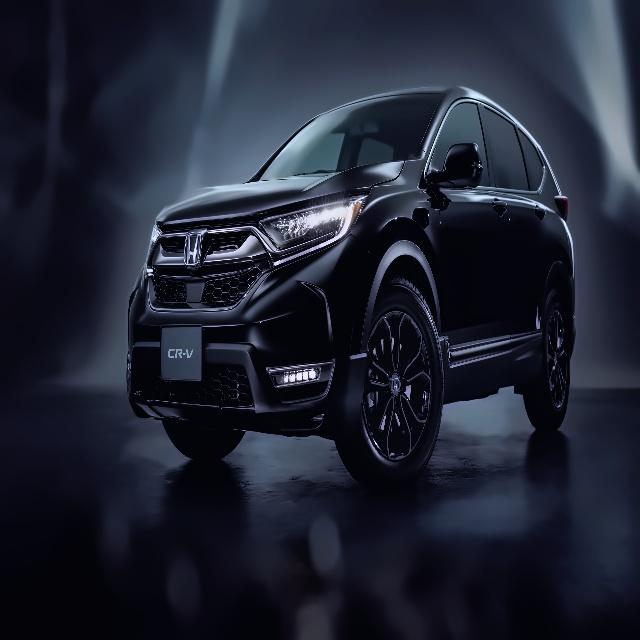Car hood: (152, 158, 409, 228)
Fender - -F-L-: (350, 157, 447, 372)
Fender - -R-L-: (547, 214, 575, 333)
Front bumper: (120, 236, 383, 452)
Headlight - -L-: (252, 189, 372, 271)
Headlight - -R-: (143, 212, 168, 273)
Passenger-s door - -F-L-: (437, 91, 510, 359)
Passenger-s door - -R-L-: (484, 93, 551, 358)
Rear light - -L-: (548, 176, 572, 224)
Side bumper - -L-: (430, 324, 552, 406)
Side mirror - -L-: (418, 137, 489, 198)
